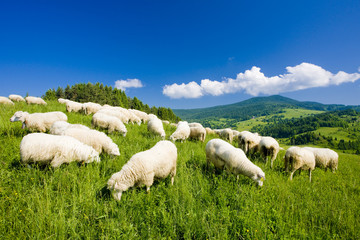sheep: (107, 140, 182, 210), (19, 128, 107, 175), (48, 118, 128, 166), (204, 140, 271, 195), (12, 107, 77, 144), (281, 146, 322, 182), (92, 109, 128, 138), (245, 134, 279, 161), (310, 142, 339, 172), (105, 99, 136, 122), (144, 113, 166, 140), (188, 119, 208, 146), (171, 118, 196, 139), (81, 96, 100, 122), (22, 93, 51, 109), (8, 91, 31, 110), (131, 106, 153, 124), (60, 97, 79, 117), (1, 95, 15, 107)
